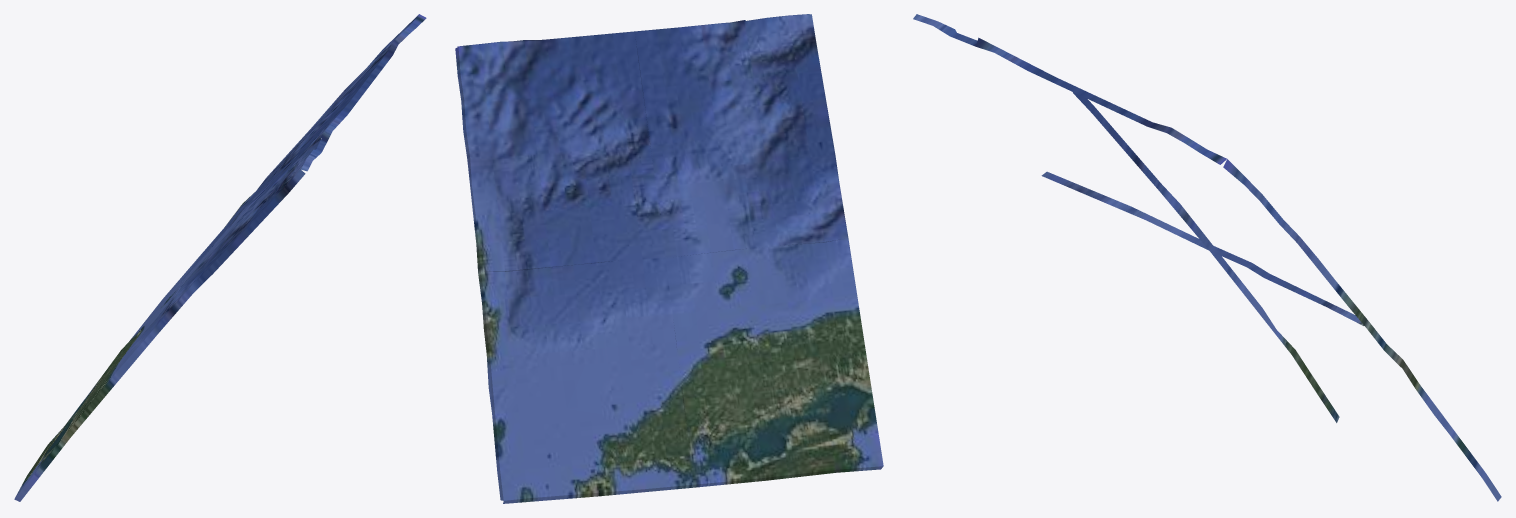
3 views of the same model, side by side, from view 1: azimuth 30°, elevation 25°; view 2: azimuth 150°, elevation 25°; view 3: azimuth 270°, elevation 25° (orthographic). The views are drawn at different scales.
Size of the model in its own units: 632416 by 512822 by 620309.
1 material, 1 textured.
